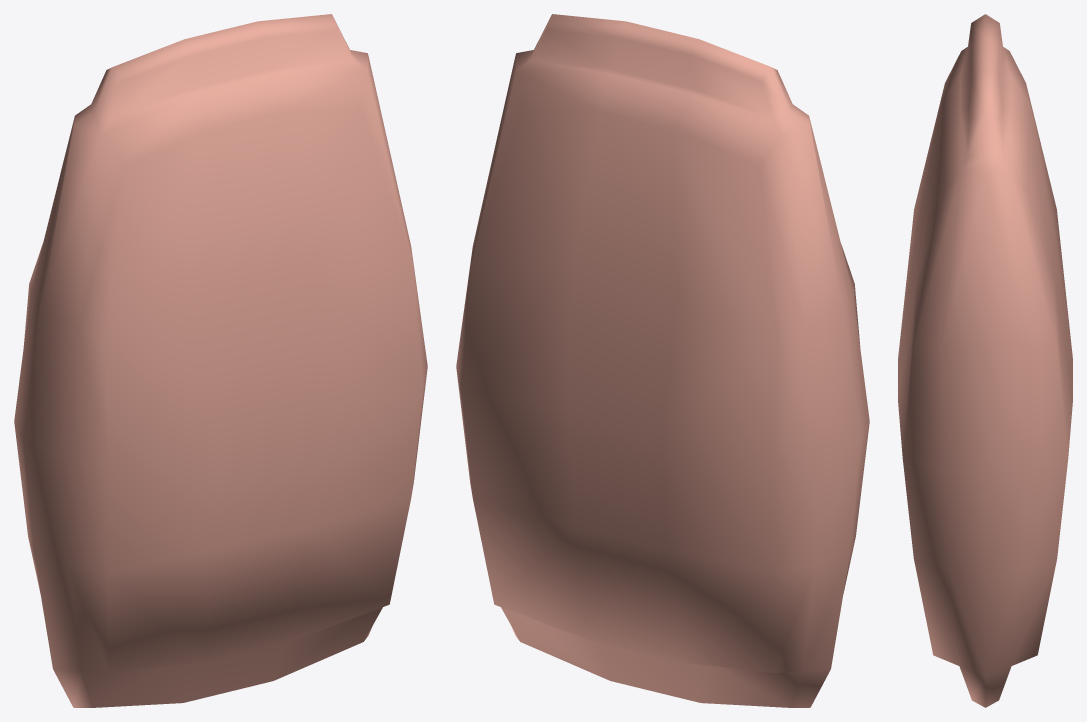
The model's file is EagleOne_Chips.fbx.
The picture shows the model from 3 angles, left to right: view 1: azimuth 30°, elevation 25°; view 2: azimuth 150°, elevation 25°; view 3: azimuth 270°, elevation 25°; orthographic projection. The views are drawn at different scales.
Visible parts, largest first — view 1: Eagle_Chips; view 2: Eagle_Chips; view 3: Eagle_Chips.
Boxes of the visible parts, x1,y1,x2,y2 form: Eagle_Chips: (14, 14, 427, 707); Eagle_Chips: (456, 14, 869, 707); Eagle_Chips: (898, 14, 1072, 707).
Size of the model in its own units: 68.2 by 109 by 28.5.
